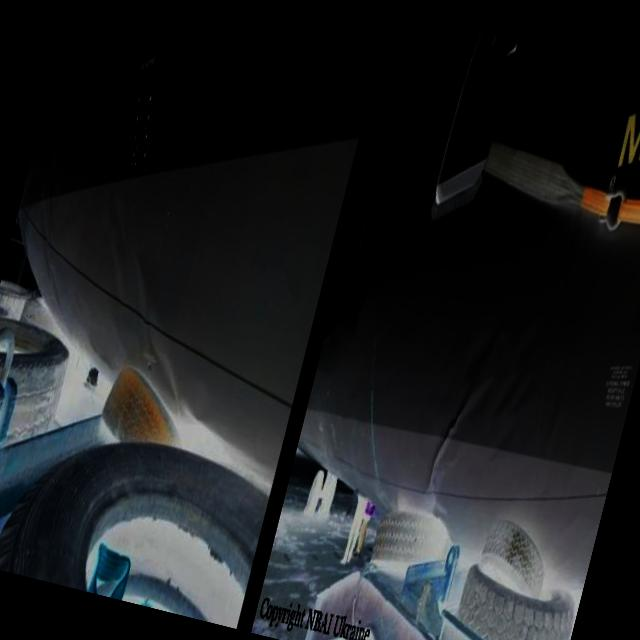dent: (44, 168, 234, 425), (418, 304, 550, 526)
